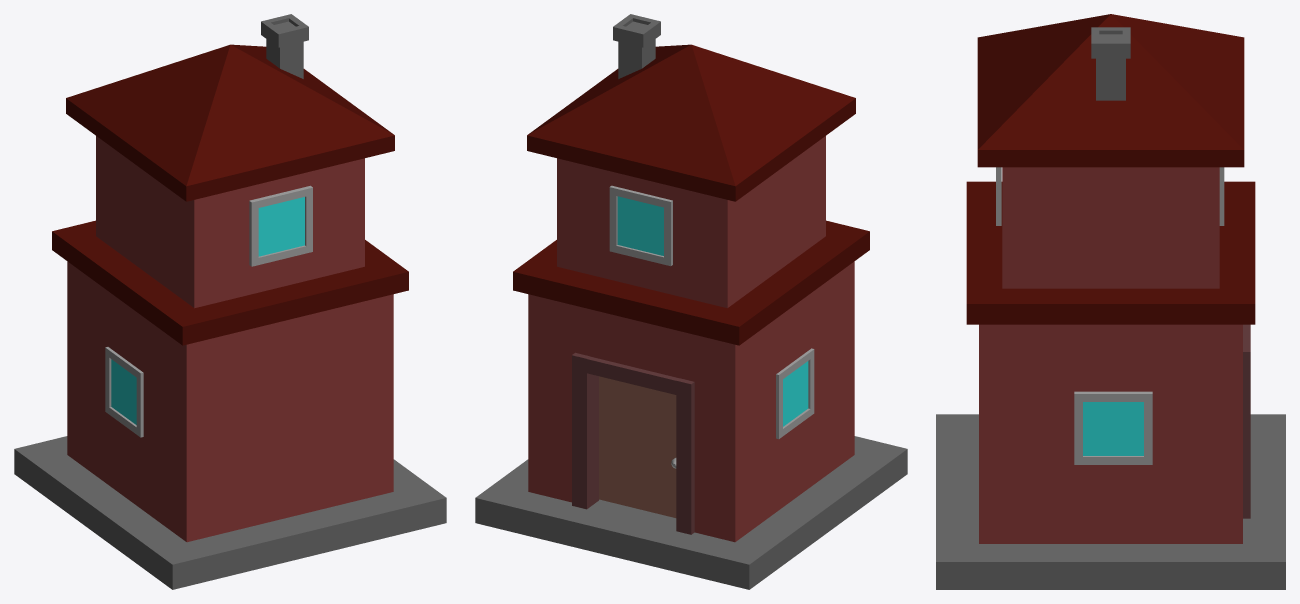
The model's file is HouseV3.fbx.
3 views of the same model, side by side, from view 1: azimuth 30°, elevation 25°; view 2: azimuth 150°, elevation 25°; view 3: azimuth 270°, elevation 25° (orthographic). The views are drawn at different scales.
Visible parts, largest first — view 1: Cube.007; view 2: Cube.007; view 3: Cube.007.
Part boxes in pixels (x1,y1,x2,y2): Cube.007: (14, 14, 446, 589); Cube.007: (475, 14, 907, 589); Cube.007: (936, 14, 1285, 589).
Bounding box in the file's own units: 265 × 426 × 265.
